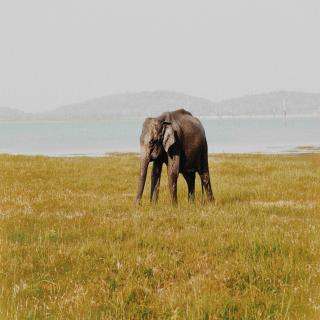Elephant: (135, 106, 218, 214)
